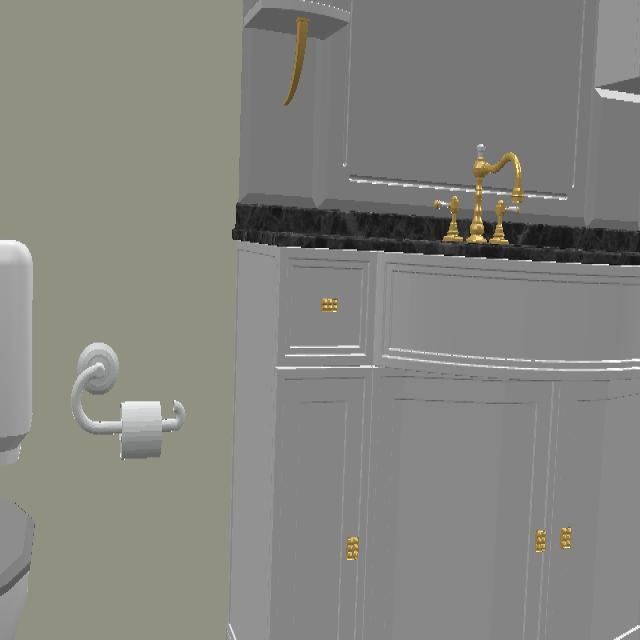cabinet: (228, 204, 640, 640), (240, 0, 640, 228)
sink: (469, 144, 524, 240), (433, 196, 462, 241)
toilet: (0, 240, 35, 471), (0, 497, 35, 623)
